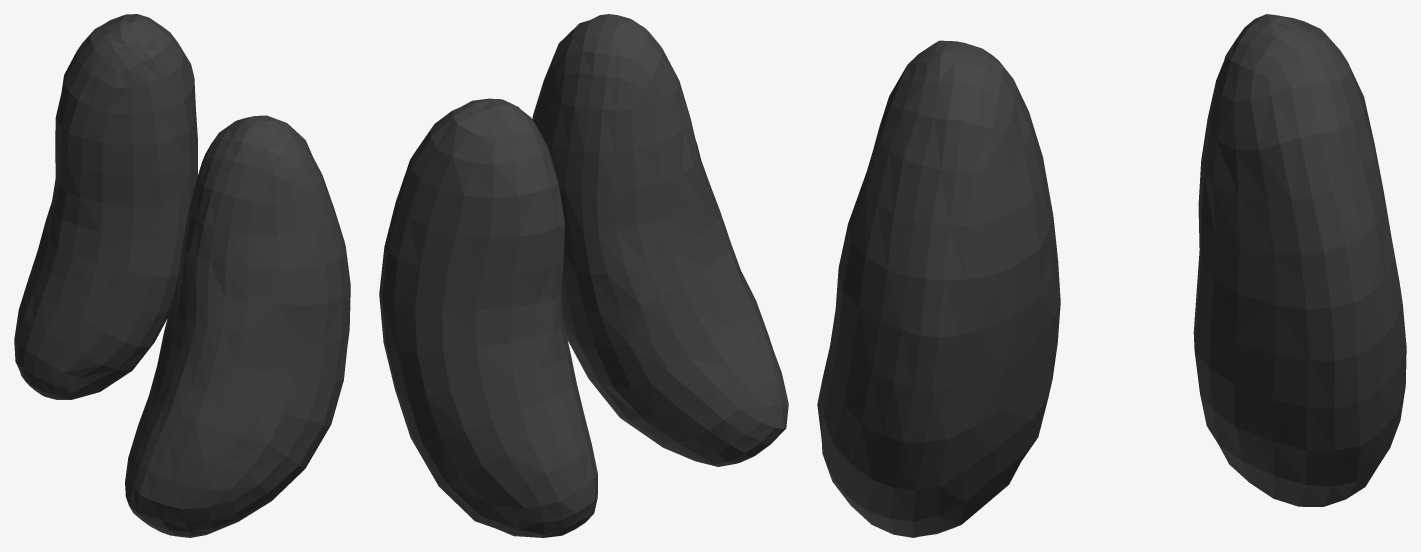
Rendered from proximal_sesamoid_IV_L.glb.
3 views of the same model, side by side, from view 1: azimuth 30°, elevation 25°; view 2: azimuth 150°, elevation 25°; view 3: azimuth 270°, elevation 25° (orthographic). The views are drawn at different scales.
Visible parts, largest first — view 1: proximal_sesamoid_IV_L; view 2: proximal_sesamoid_IV_L; view 3: proximal_sesamoid_IV_L.
Boxes of the visible parts, <box> form: proximal_sesamoid_IV_L: <box>14,14,350,537</box>; proximal_sesamoid_IV_L: <box>379,14,788,537</box>; proximal_sesamoid_IV_L: <box>817,14,1406,537</box>.
Bounding box in the file's own units: 0.00744 × 0.0129 × 0.0126.
1 material, 1 textured.
